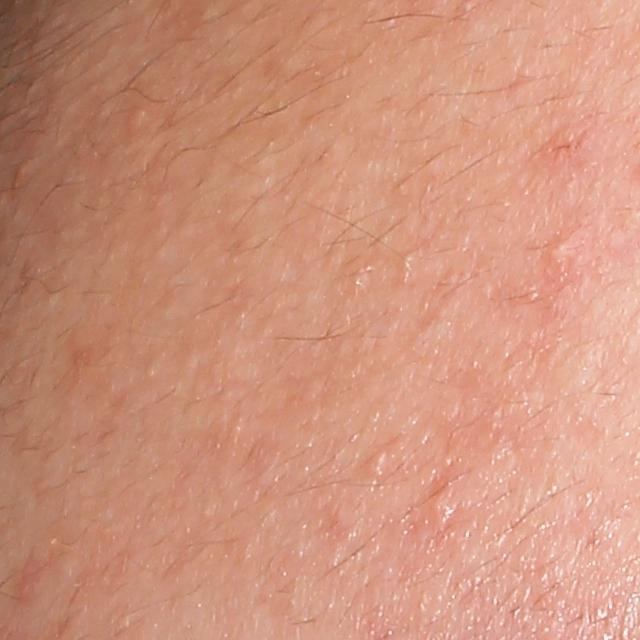comedo: (364, 450, 392, 482), (426, 488, 451, 522), (546, 240, 575, 266), (122, 106, 145, 136), (402, 252, 418, 275)
